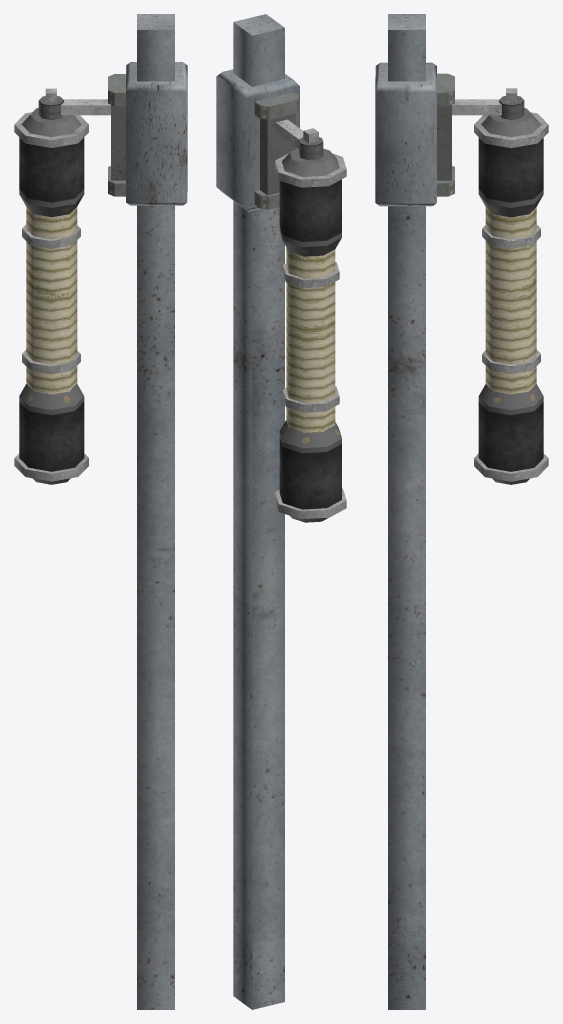
The model's file is Ob_LampHanging_RC.fbx.
The picture shows the model from 3 angles, left to right: view 1: azimuth 90°, elevation 25°; view 2: azimuth 210°, elevation 25°; view 3: azimuth 270°, elevation 25°; orthographic projection.
Parts seen in each view (by area): view 1: Ob_LampHanging_RC; view 2: Ob_LampHanging_RC; view 3: Ob_LampHanging_RC.
Boxes of the visible parts, x1=… form: Ob_LampHanging_RC: x1=14, y1=14, x2=187, y2=1009; Ob_LampHanging_RC: x1=216, y1=14, x2=346, y2=1009; Ob_LampHanging_RC: x1=375, y1=14, x2=548, y2=1009.
Bounding box in the file's own units: 29.77 × 431 × 69.05.
